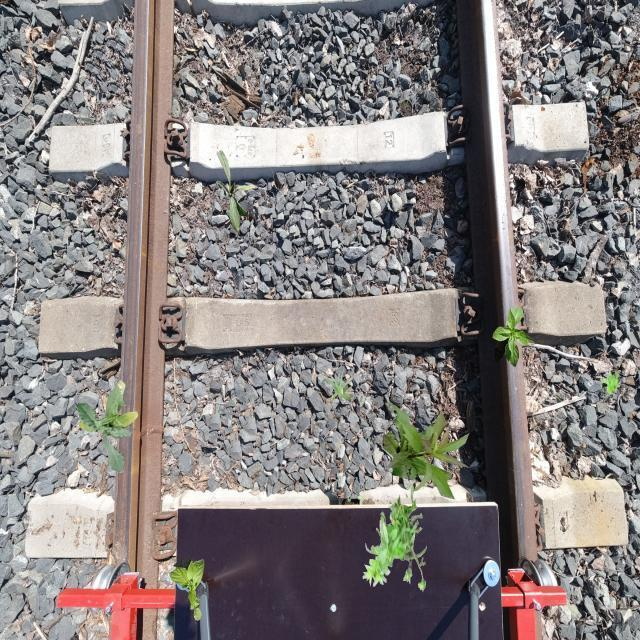Plant: (383, 402, 472, 500), (363, 485, 428, 592), (76, 380, 138, 473), (216, 150, 256, 232), (493, 307, 535, 367), (169, 558, 204, 620), (322, 369, 354, 404), (600, 370, 620, 395)
